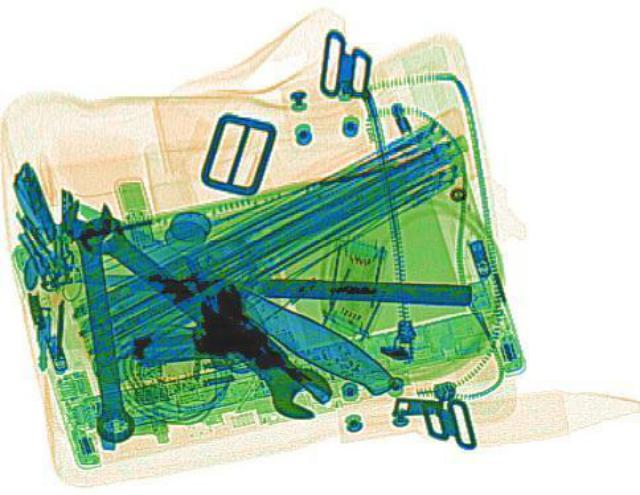Gun: (122, 292, 330, 449)
Knife: (61, 189, 405, 398), (66, 262, 470, 303)
Wrench: (56, 204, 347, 427), (57, 197, 135, 442)
